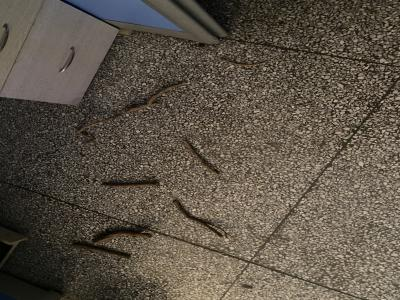Root: (172, 200, 224, 237), (124, 82, 186, 112), (183, 140, 218, 174), (75, 114, 122, 137), (71, 243, 130, 258), (93, 231, 152, 245), (102, 181, 160, 187)
